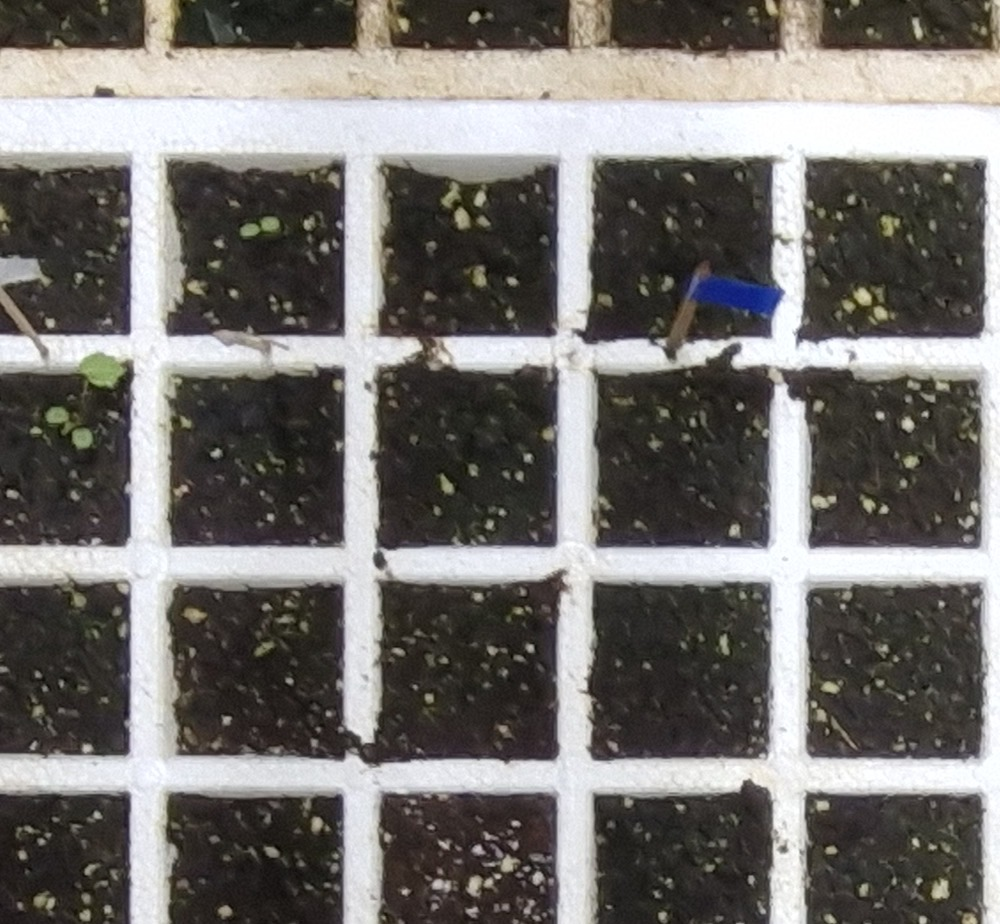Folha: (77, 352, 126, 389), (72, 427, 93, 448), (46, 405, 69, 424), (261, 216, 280, 233), (241, 222, 259, 236)
Germinacao: (47, 351, 126, 448), (239, 217, 280, 238)
